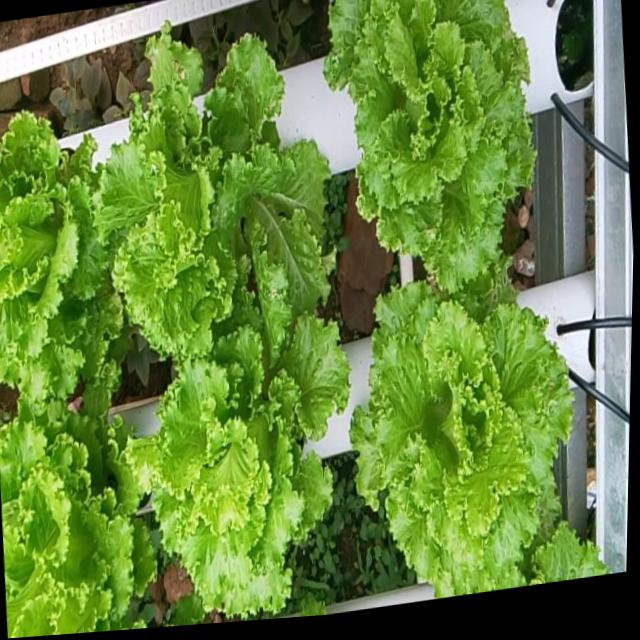Mature: (96, 0, 329, 366), (349, 274, 590, 598), (127, 316, 349, 621), (323, 0, 535, 296), (0, 390, 154, 638), (0, 114, 120, 405)
